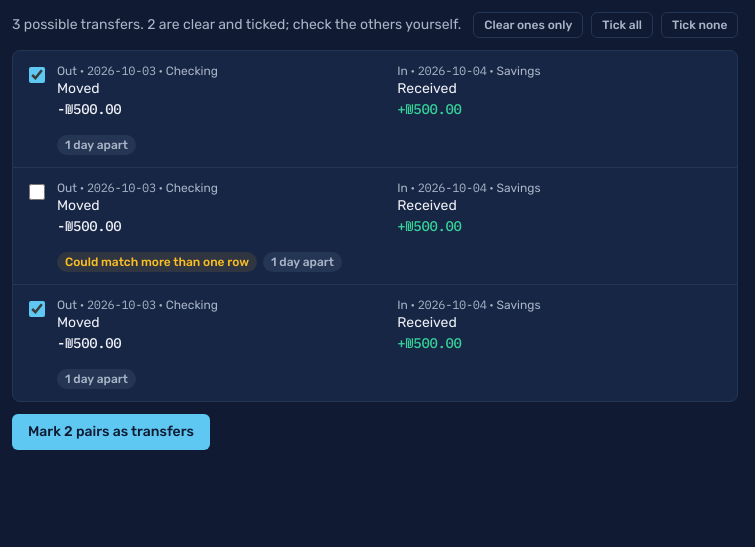
Test: TransferMatchesPanel › sends exactly the ticked pairs, then offers to undo the rows it marked
Note: Tick the second, untick the third.
Click the 2nd checkbox named "Mark as a transfer: Moved from Checking to Savings": [37, 192] box [29, 184, 45, 200]
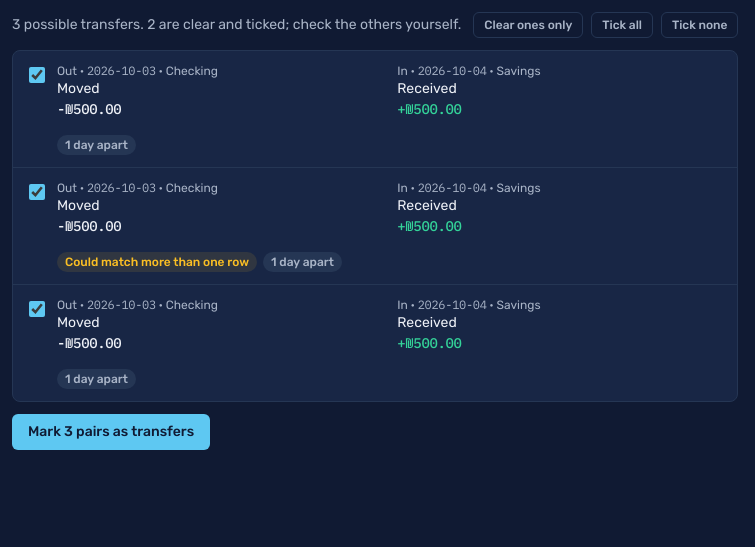
Click the 3rd checkbox named "Mark as a transfer: Moved from Checking to Savings": [37, 309] box [29, 301, 45, 317]
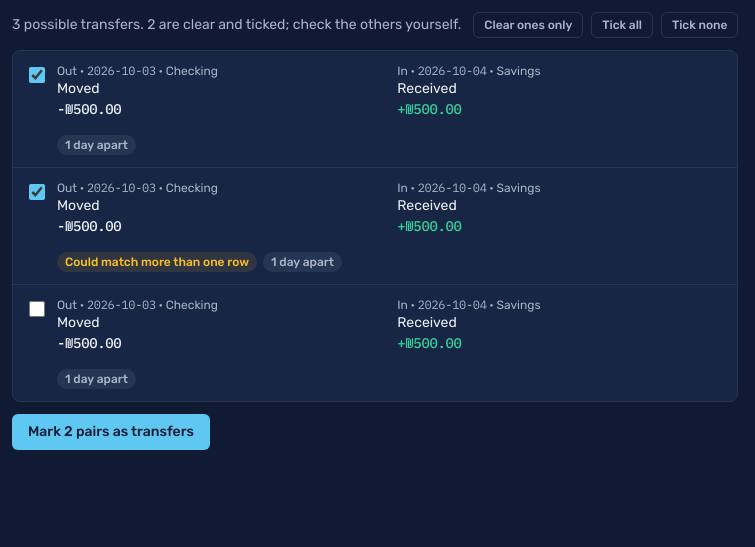
Click the button "Mark 2 pairs as transfers": [111, 432] box [12, 414, 210, 450]
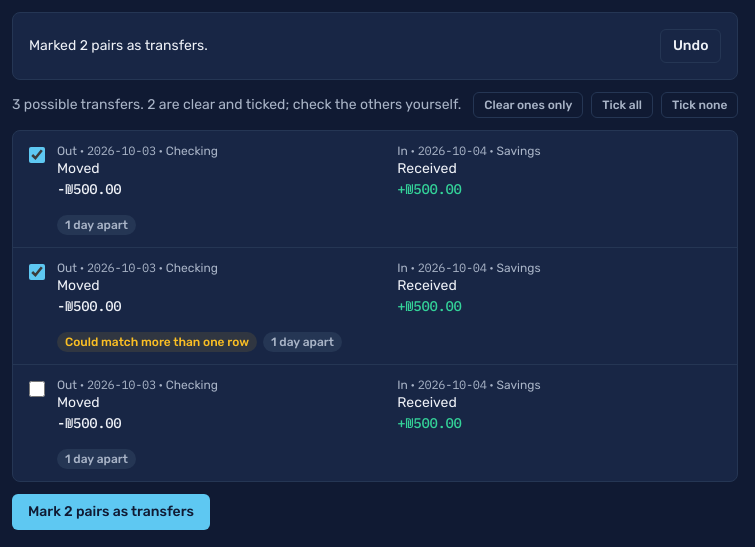
Now the text "Marked 2 pairs as transfers." is shown, box [29, 36, 208, 56]
Click the button "Undo": [691, 46] box [660, 29, 722, 63]
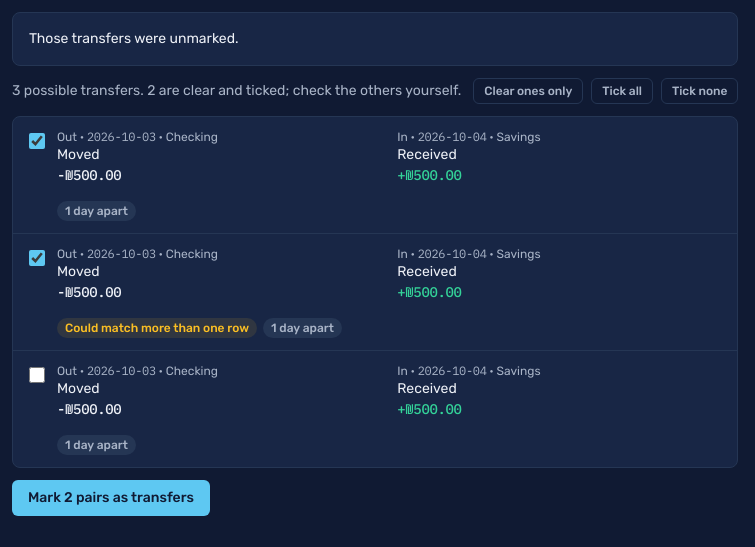
Now the text "Those transfers were unmarked." is shown, box [29, 29, 238, 49]
